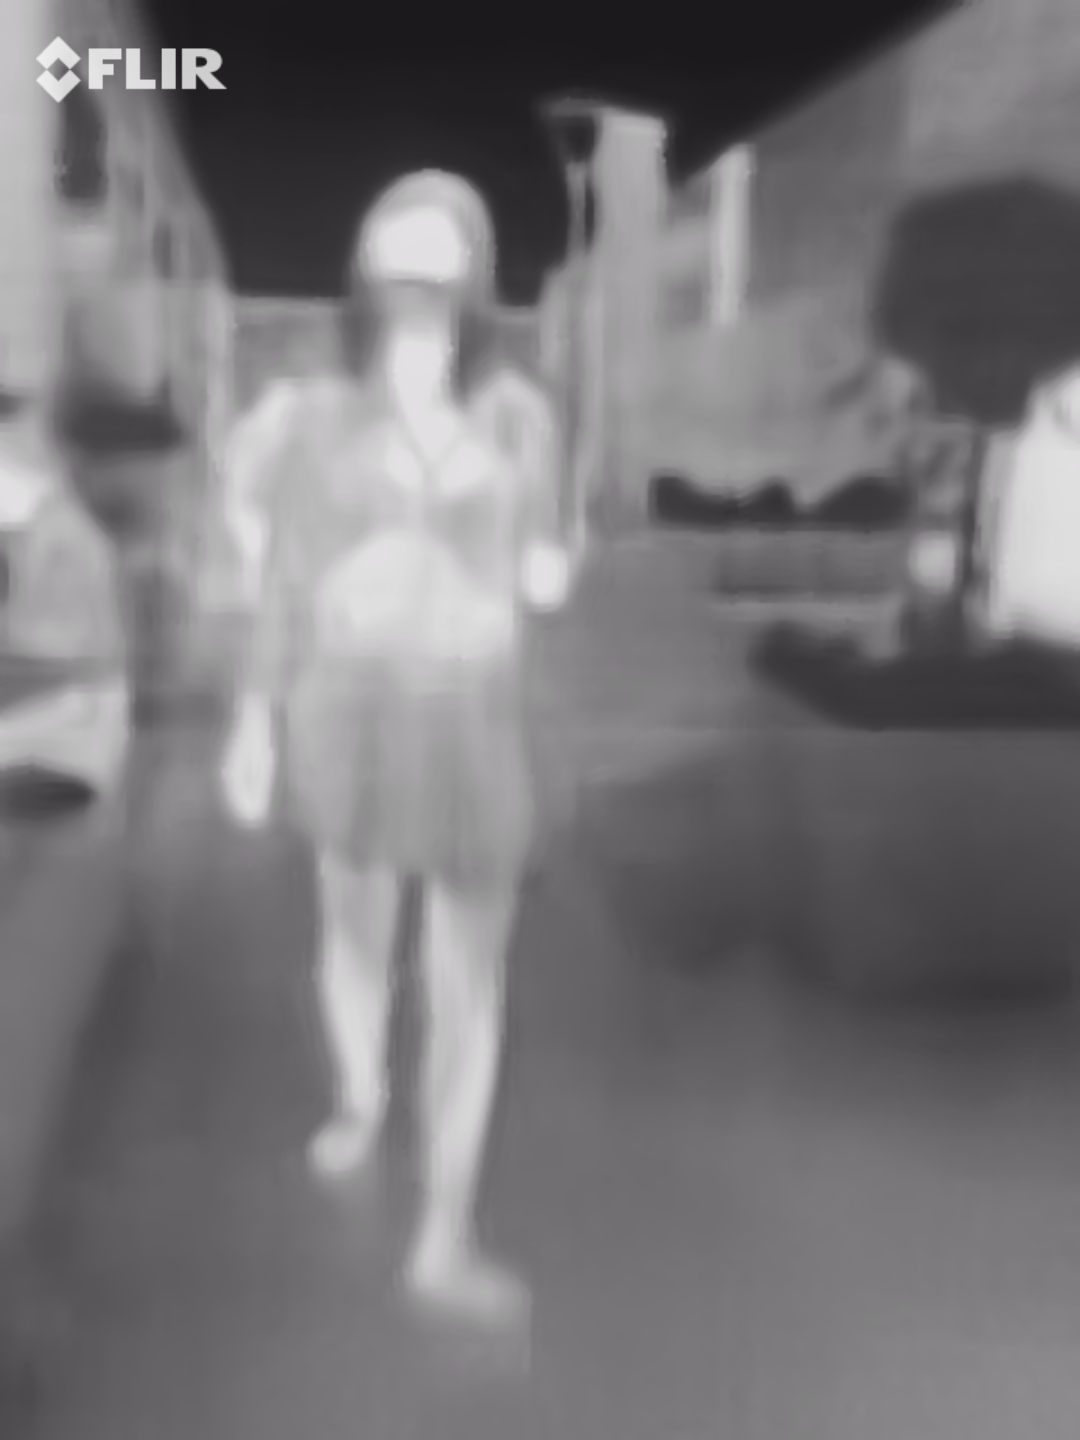head: (348, 166, 494, 345)
